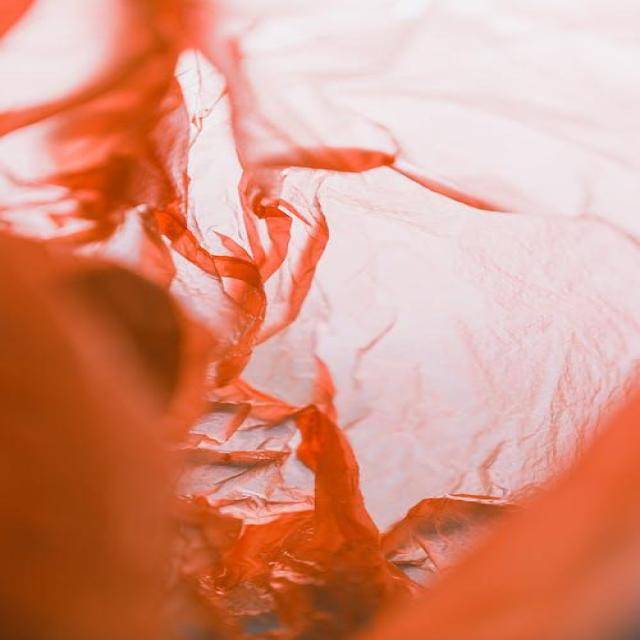plastic: (1, 5, 634, 638)
